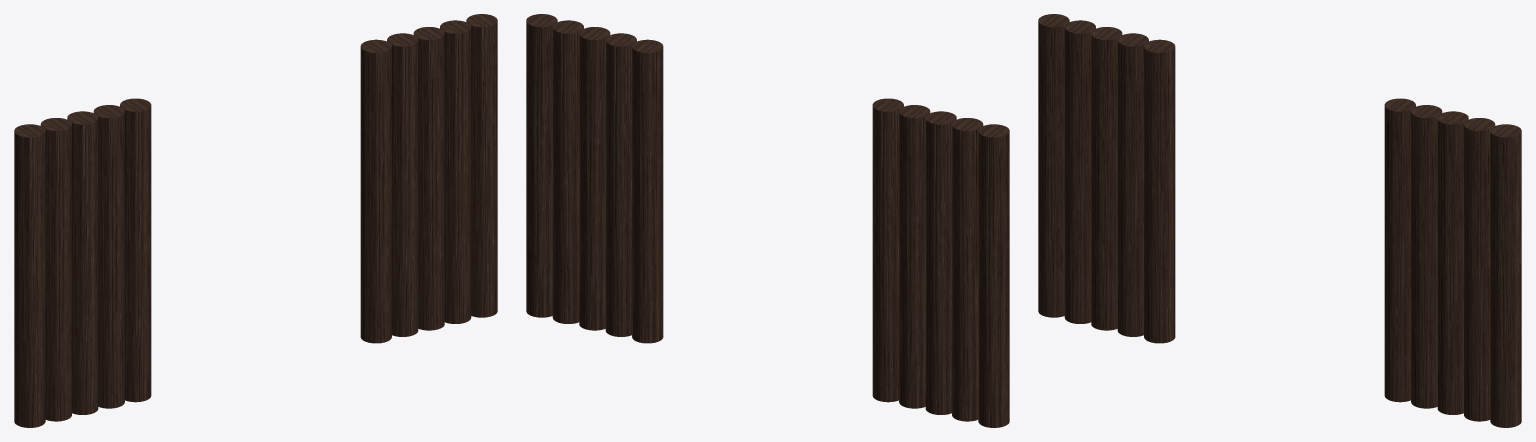
Rendered from Fence.fbx.
3 renders of one model, left to right at view 1: azimuth 30°, elevation 25°; view 2: azimuth 150°, elevation 25°; view 3: azimuth 330°, elevation 25°, orthographic.
Parts seen in each view (by area): view 1: Cylinder, Cylinder.007, Cylinder.010, Cylinder.011, Cylinder.002, Cylinder.004, Cylinder.008, Cylinder.001, Cylinder.003, Cylinder.009; view 2: Cylinder, Cylinder.007, Cylinder.010, Cylinder.011, Cylinder.008, Cylinder.001, Cylinder.002, Cylinder.004, Cylinder.009, Cylinder.003; view 3: Cylinder.011, Cylinder.004, Cylinder.001, Cylinder, Cylinder.007, Cylinder.003, Cylinder.008, Cylinder.009, Cylinder.010, Cylinder.002.
Boxes of the visible parts, <box> form: Cylinder: <box>14,124,45,427</box>; Cylinder.007: <box>360,39,391,343</box>; Cylinder.010: <box>440,20,471,323</box>; Cylinder.011: <box>466,14,497,317</box>; Cylinder.002: <box>67,111,98,414</box>; Cylinder.004: <box>120,98,151,402</box>; Cylinder.008: <box>387,33,418,336</box>; Cylinder.001: <box>40,118,71,421</box>; Cylinder.003: <box>93,105,124,408</box>; Cylinder.009: <box>413,27,444,330</box>; Cylinder: <box>978,124,1009,427</box>; Cylinder.007: <box>632,39,663,343</box>; Cylinder.010: <box>552,20,583,323</box>; Cylinder.011: <box>526,14,557,317</box>; Cylinder.008: <box>605,33,636,336</box>; Cylinder.001: <box>952,118,983,421</box>; Cylinder.002: <box>925,111,956,414</box>; Cylinder.004: <box>872,98,903,402</box>; Cylinder.009: <box>579,27,610,330</box>; Cylinder.003: <box>899,105,930,408</box>; Cylinder.011: <box>1490,124,1521,427</box>; Cylinder.004: <box>1144,39,1175,343</box>; Cylinder.001: <box>1064,20,1095,323</box>; Cylinder: <box>1038,14,1069,317</box>; Cylinder.007: <box>1384,98,1415,402</box>; Cylinder.003: <box>1117,33,1148,336</box>; Cylinder.008: <box>1411,105,1442,408</box>; Cylinder.009: <box>1437,111,1468,414</box>; Cylinder.010: <box>1464,118,1495,421</box>; Cylinder.002: <box>1091,27,1122,330</box>.
Bounding box in the file's own units: 1813 × 1050 × 103.
Materials: 1 (1 with a texture image).
